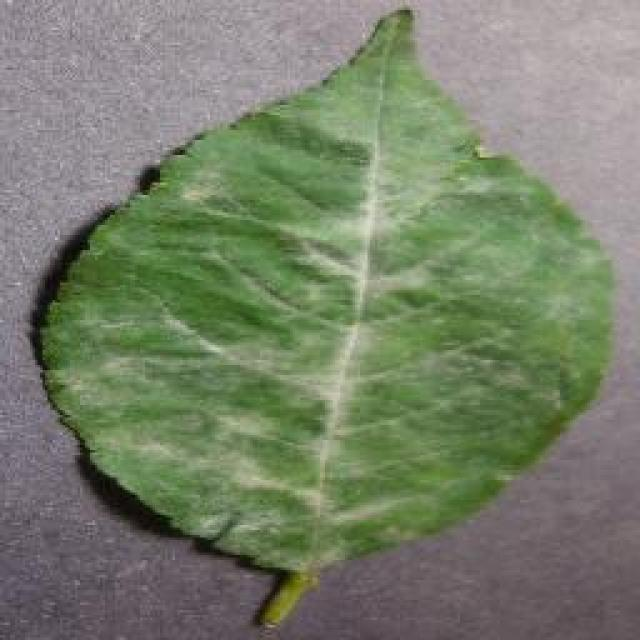Cherry___Powdery_mildew: (23, 2, 625, 640)
